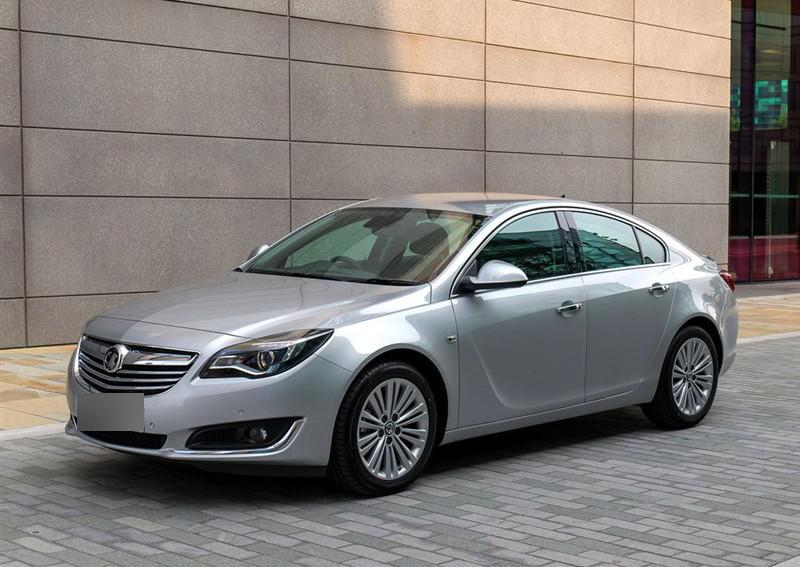Wagon: (65, 190, 738, 498)
